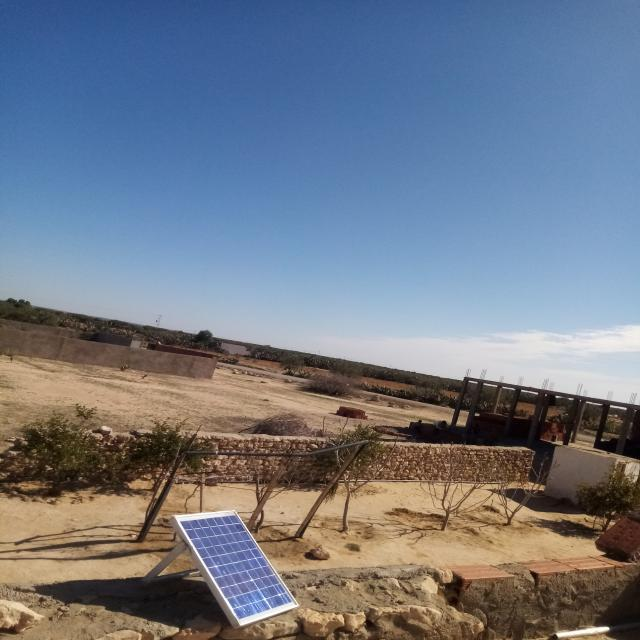no faulty: (174, 510, 299, 625)
